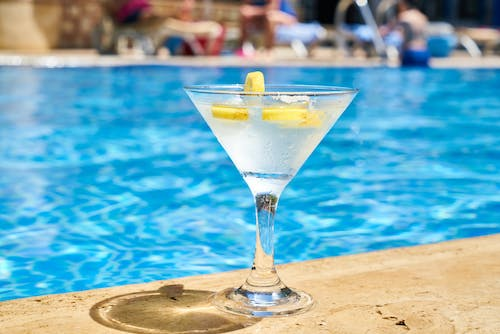alcohol: (182, 84, 360, 318)
